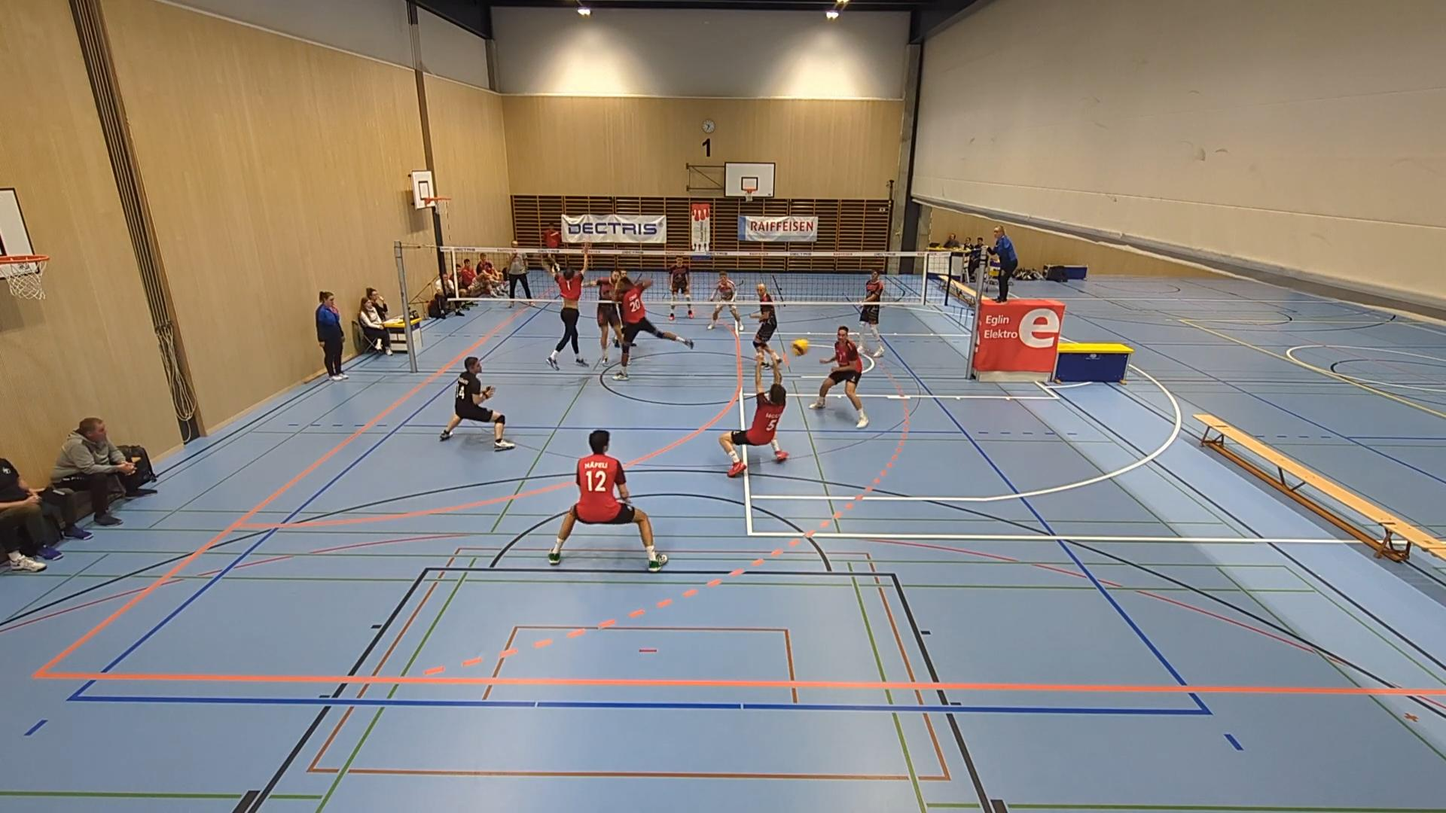difesa: (719, 359, 795, 479)
